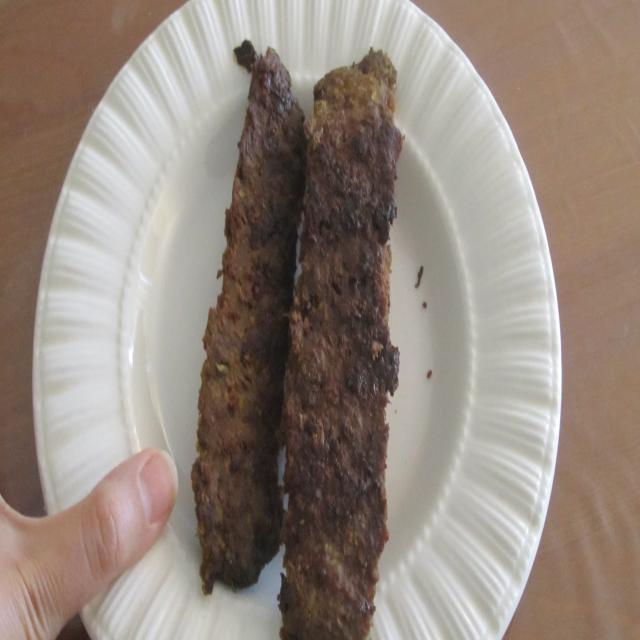cutlet: (185, 34, 416, 640)
